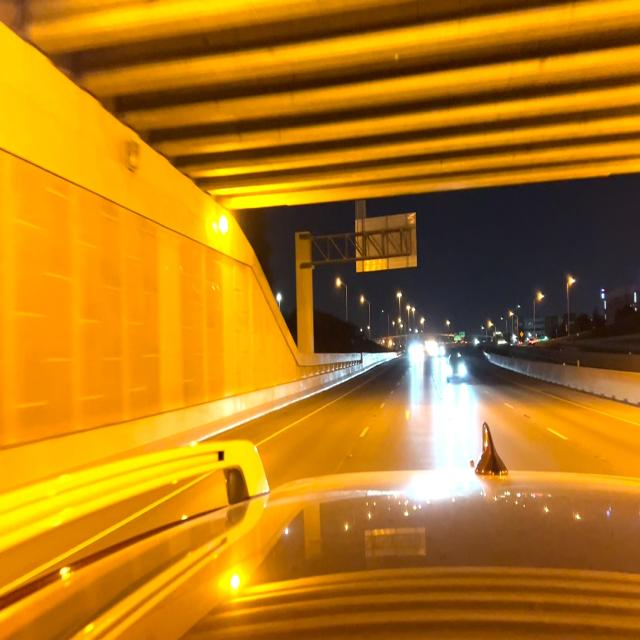back-of-sign: (356, 218, 417, 268), (355, 201, 365, 215)
